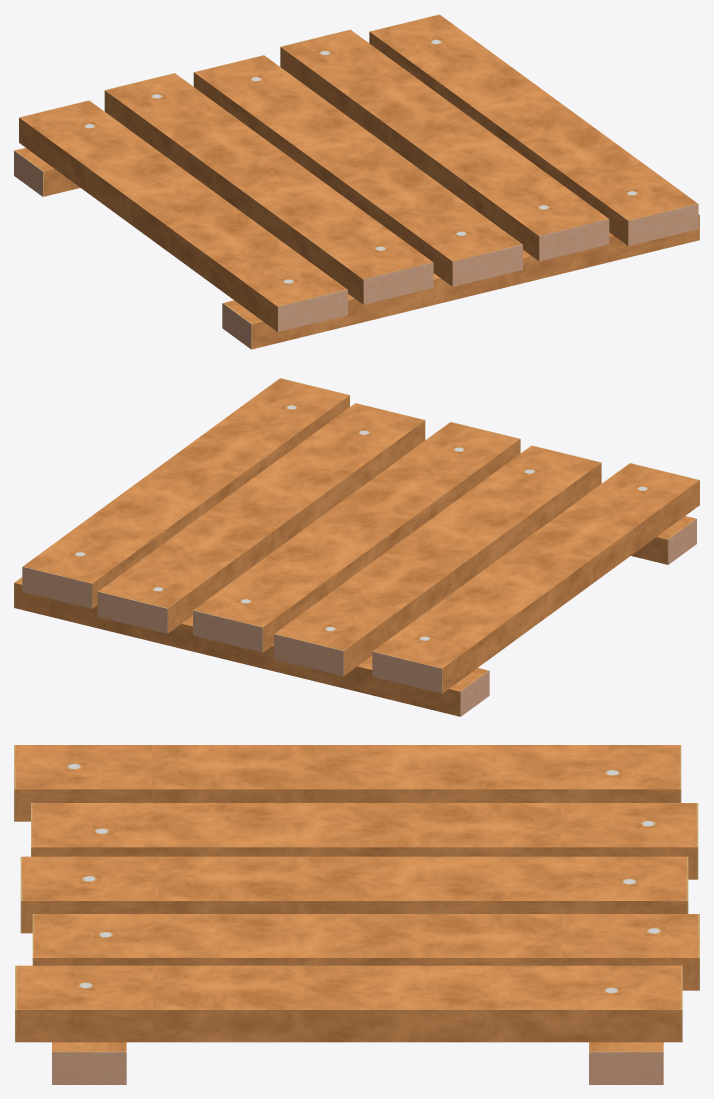
Rendered from Pallet_4.fbx.
3 renders of one model, top to bottom at view 1: azimuth 30°, elevation 25°; view 2: azimuth 150°, elevation 25°; view 3: azimuth 270°, elevation 25°, orthographic. The views are drawn at different scales.
Parts seen in each view (by area): view 1: Pallet_4; view 2: Pallet_4; view 3: Pallet_4.
Boxes of the visible parts, left/top/right/bottom form: Pallet_4: left=14, top=14, right=699, bottom=349; Pallet_4: left=14, top=378, right=699, bottom=716; Pallet_4: left=14, top=745, right=699, bottom=1084.
Size of the model in its own units: 0.9842 by 0.1058 by 1.01.
